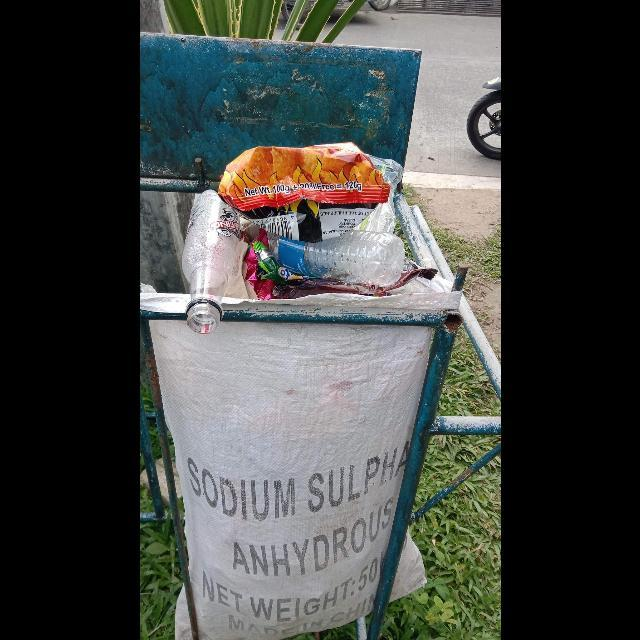plastic: (181, 190, 239, 334), (267, 231, 404, 287)
wrapper: (219, 142, 390, 244), (273, 268, 439, 299), (252, 241, 324, 286), (243, 228, 274, 300)
